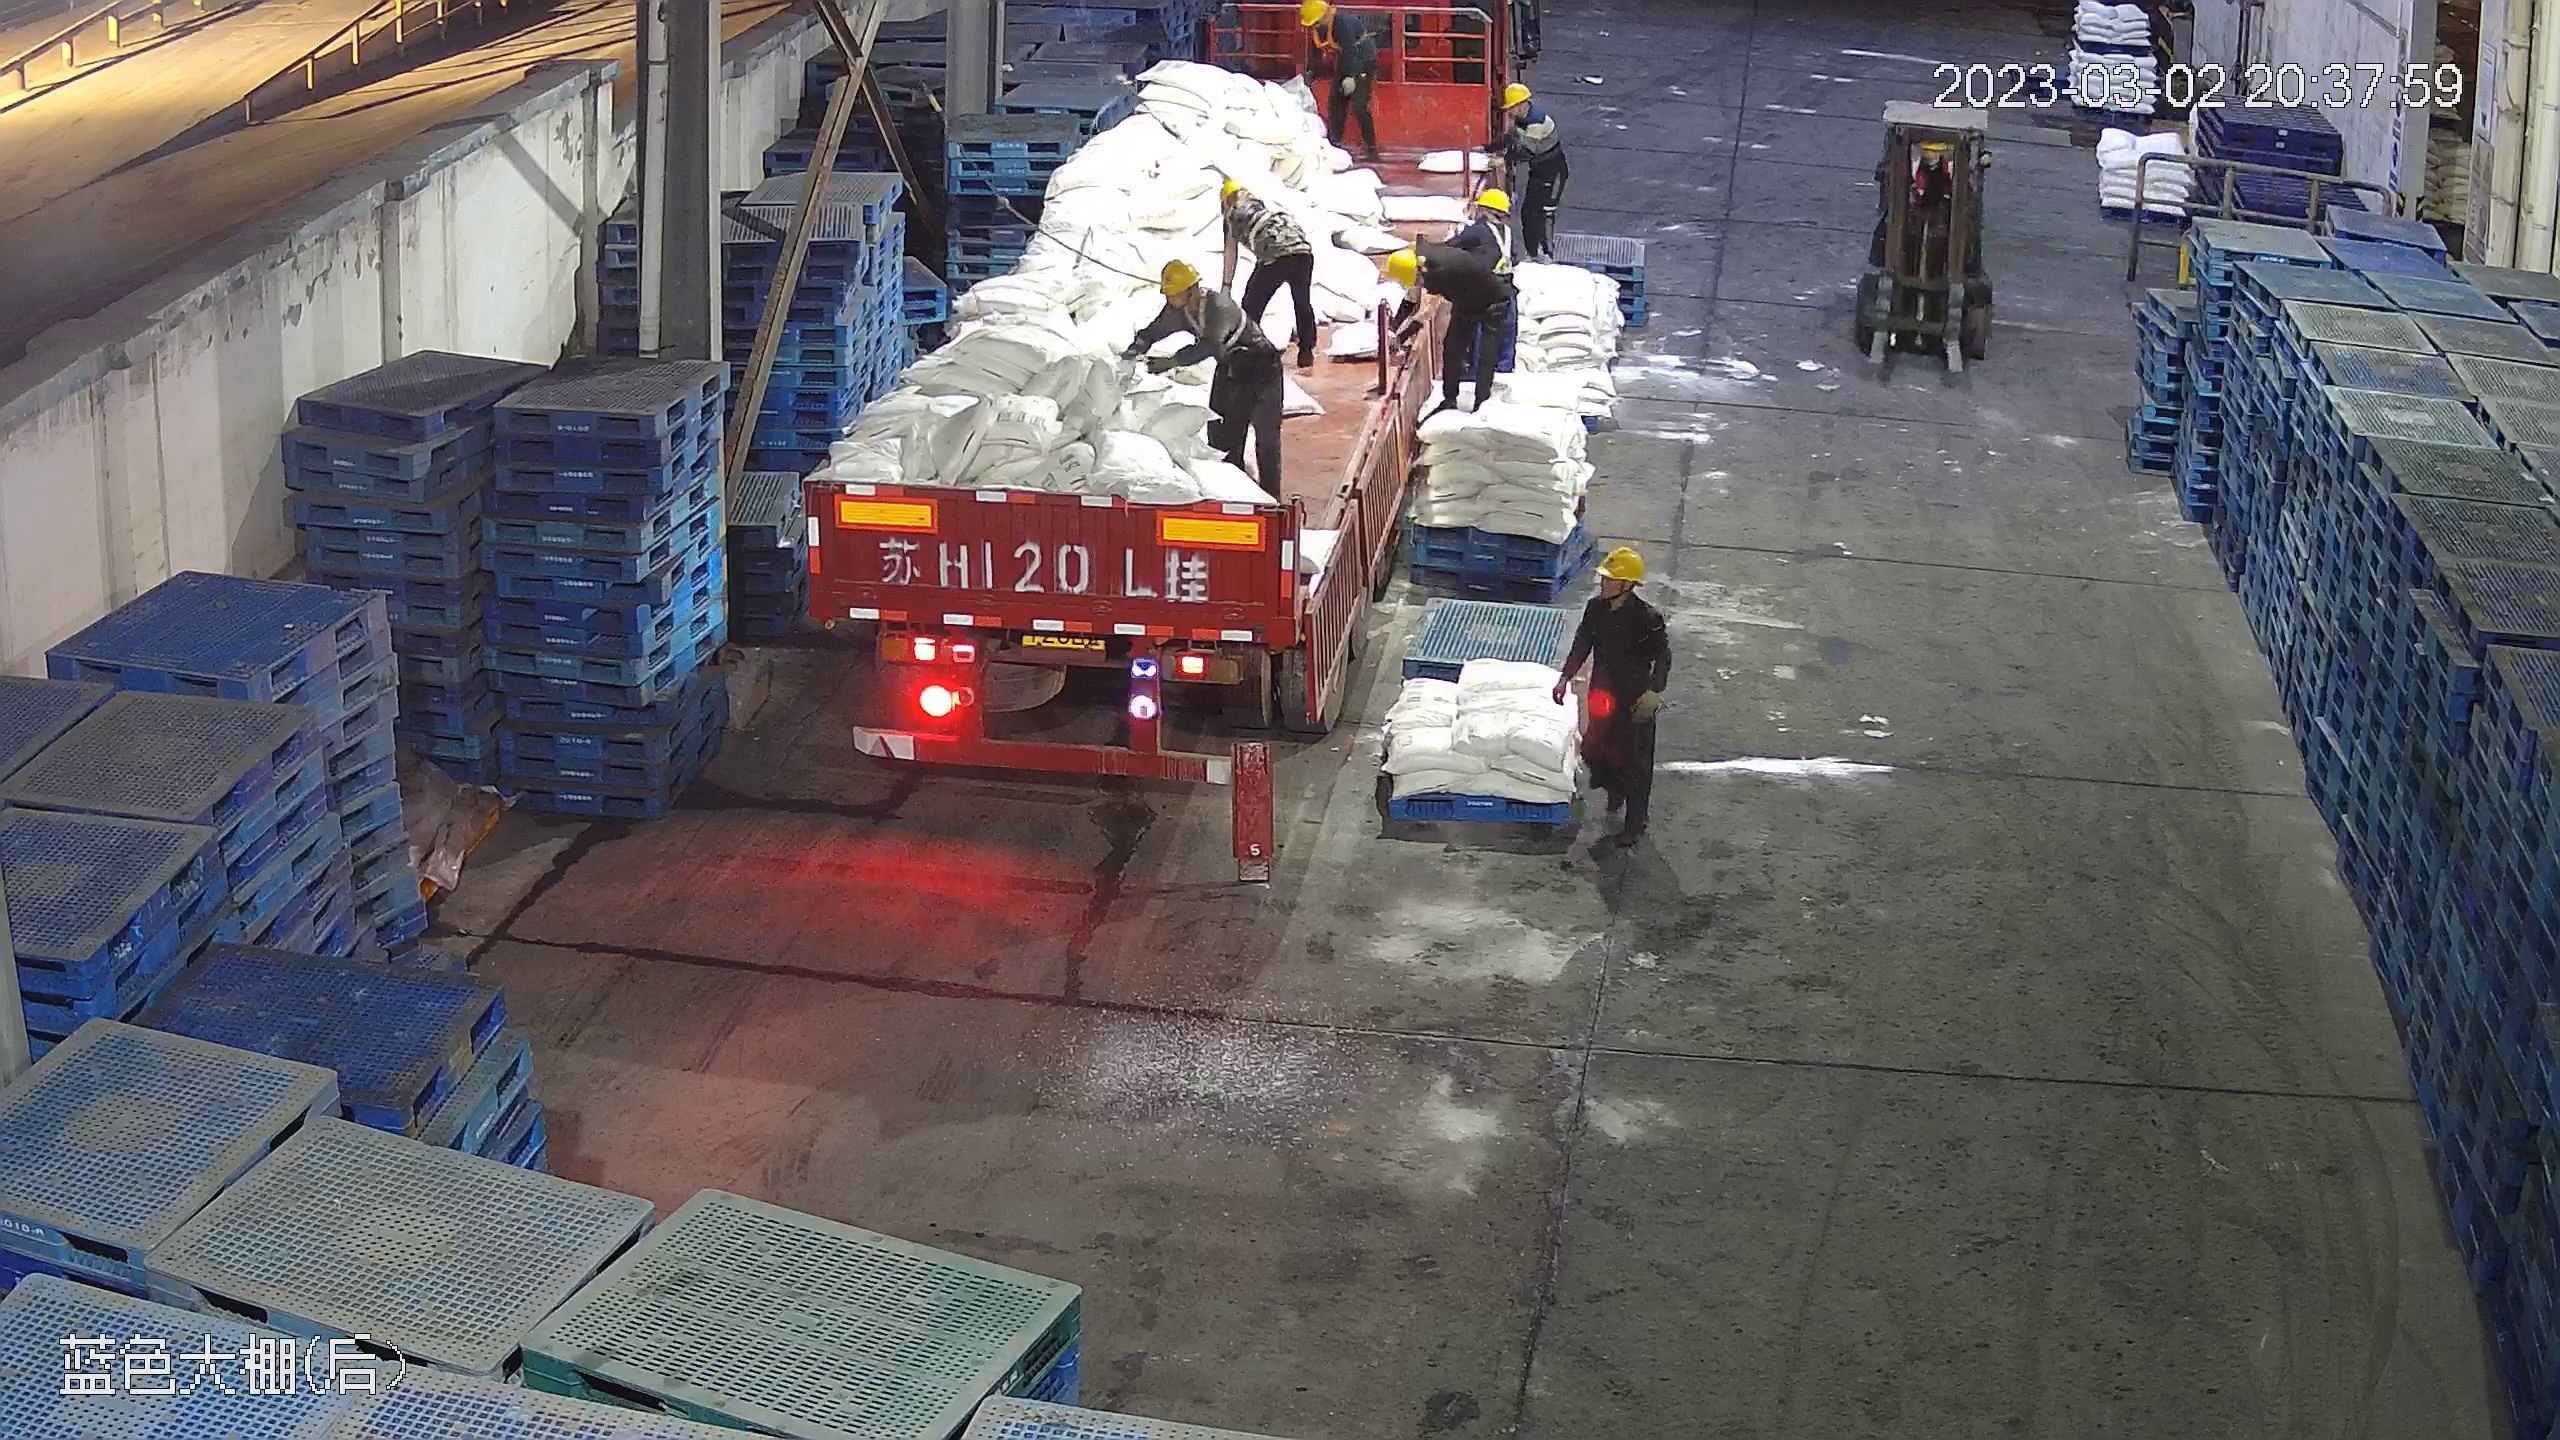belt: (1189, 286, 1259, 349), (1241, 196, 1301, 249), (1458, 219, 1514, 272), (1306, 10, 1358, 55)
head: (1572, 543, 1665, 640), (1151, 258, 1233, 331), (1377, 245, 1464, 310), (1448, 187, 1516, 258), (1218, 176, 1290, 238), (1498, 81, 1557, 140), (1296, 1, 1362, 49)
helmet: (1469, 186, 1515, 229), (1156, 257, 1201, 298), (1596, 543, 1646, 581), (1380, 248, 1418, 287), (1216, 175, 1250, 204), (1500, 81, 1530, 107), (1297, 1, 1328, 24)
people: (787, 1, 1544, 792), (1125, 251, 1288, 492), (1557, 542, 1673, 853), (1382, 235, 1512, 414), (1215, 178, 1319, 374), (1289, 1, 1381, 179), (1495, 83, 1567, 263)
truck: (795, 1, 1493, 779)
